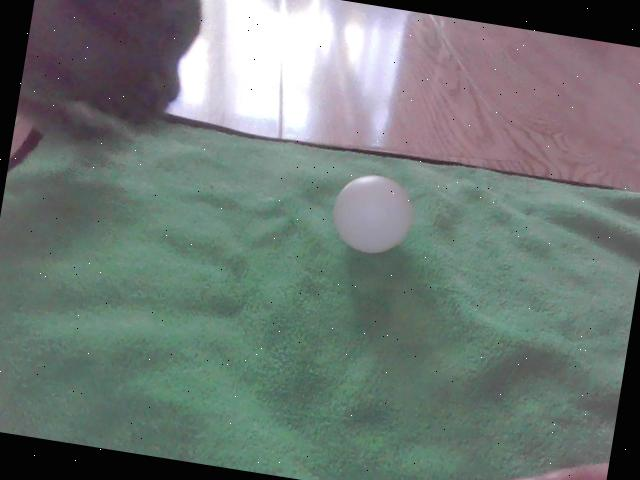ball: (327, 173, 418, 259)
